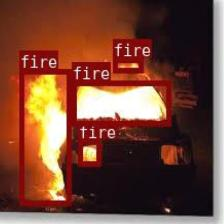fire: (18, 68, 70, 205), (72, 80, 170, 125), (77, 139, 100, 165), (112, 56, 142, 72)
